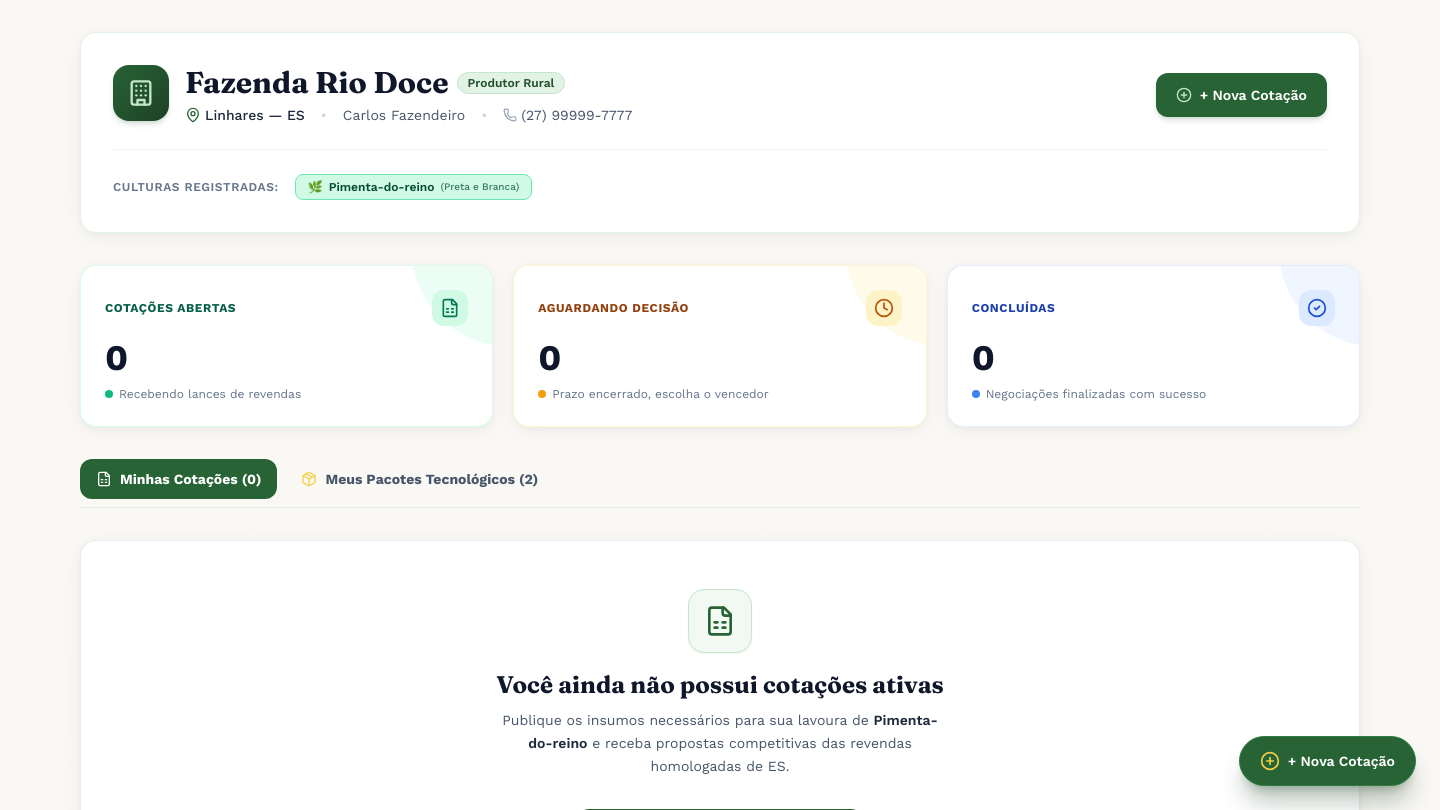
Test: US18 – Recompra em 1-Clique usando Pacote Tecnológico (ProducerDashboard) › Cenário 1: Na aba "Meus Pacotes", o card exibe o botão [ Cotar Novamente ] direcionando para o Wizard com packageId
The image size is (1440, 810).
Step 1. Click the button with test id "tab-my-packages" → click(420, 479), box [285,459,554,499]
(page scrolled)
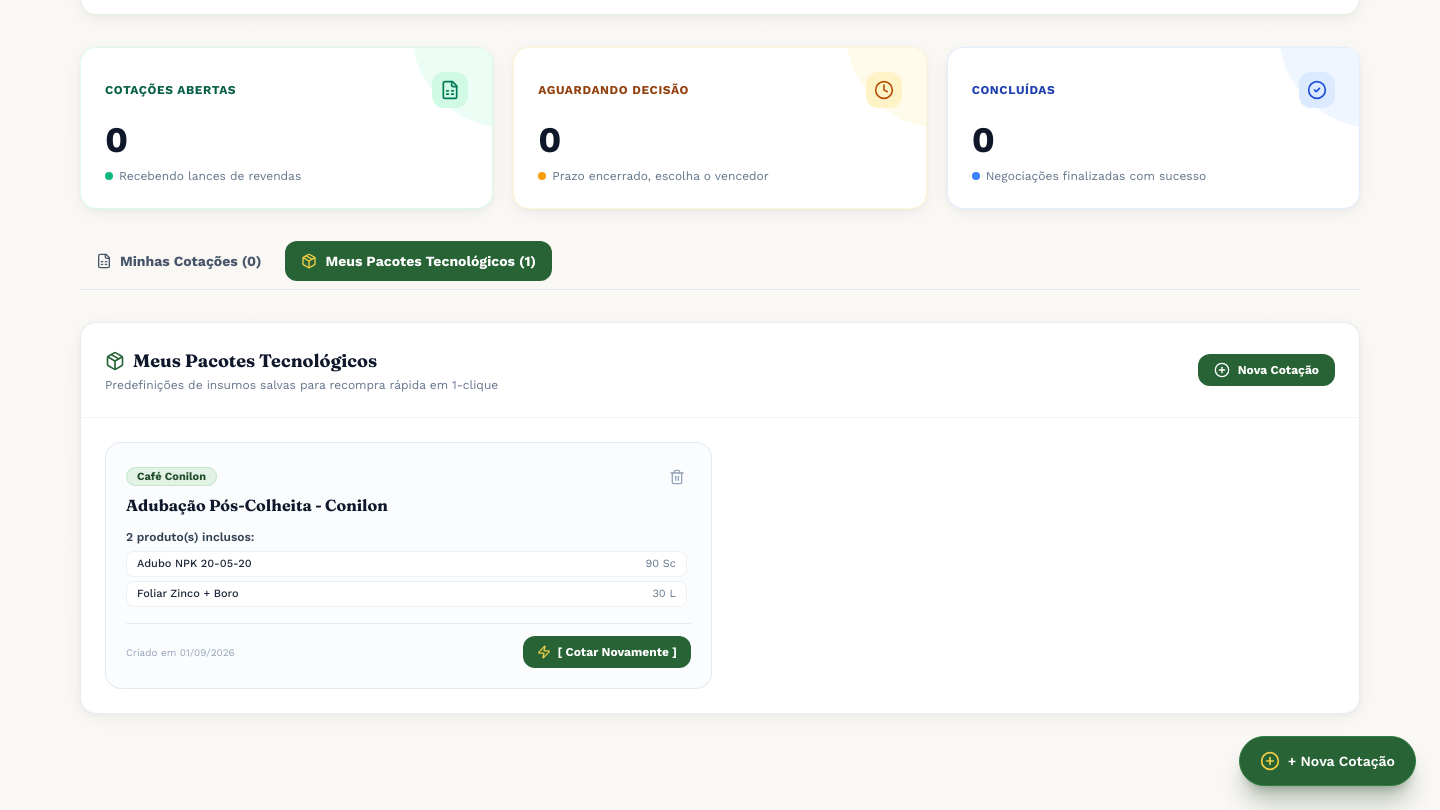
Check: the heading "Adubação Pós-Colheita - Conilon" is shown, box [126,493,388,517]
Check: the link with test id "btn-reorder-package-pkg-pos-colheita" shows "Cotar Novamente", box [523,636,691,668]
